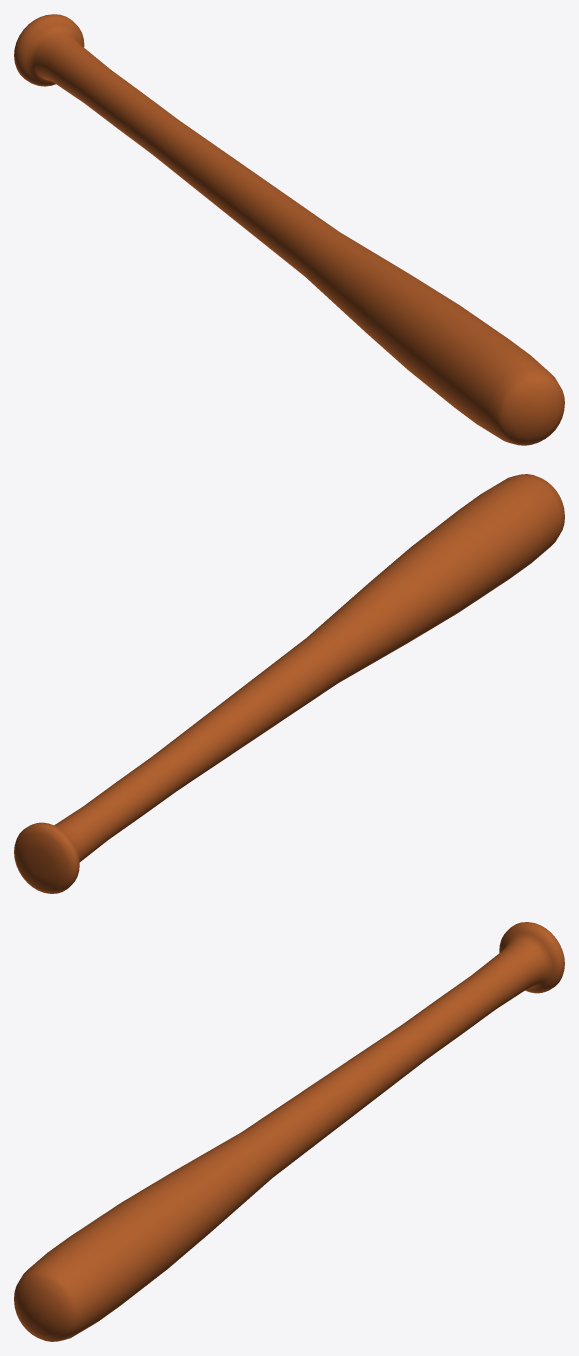
Rendered from Bat.fbx.
3 views of the same model, one above another, from view 1: azimuth 30°, elevation 25°; view 2: azimuth 150°, elevation 25°; view 3: azimuth 330°, elevation 25° (orthographic). The views are drawn at different scales.
Parts seen in each view (by area): view 1: Bat; view 2: Bat; view 3: Bat.
Part boxes in pixels (x1,y1,x2,y2): Bat: (14,14,564,445); Bat: (14,474,564,893); Bat: (14,922,564,1341).
Bounding box in the file's own units: 0.1436 × 0.1412 × 1.62.
